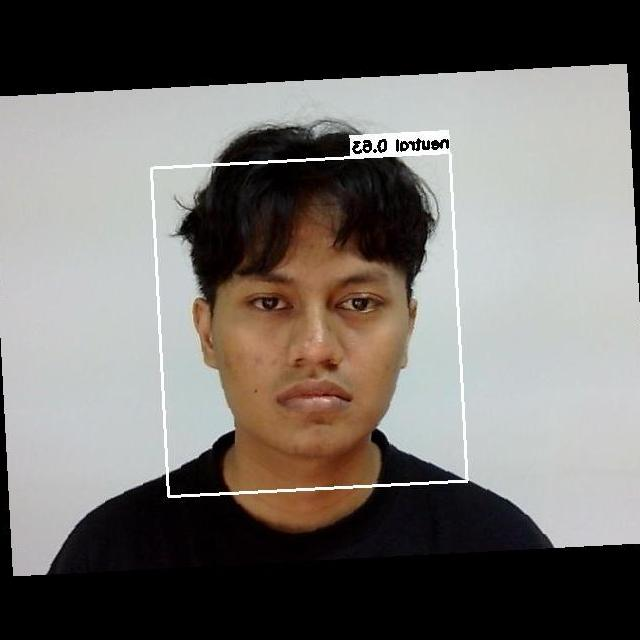Natural: (225, 245, 413, 432)
